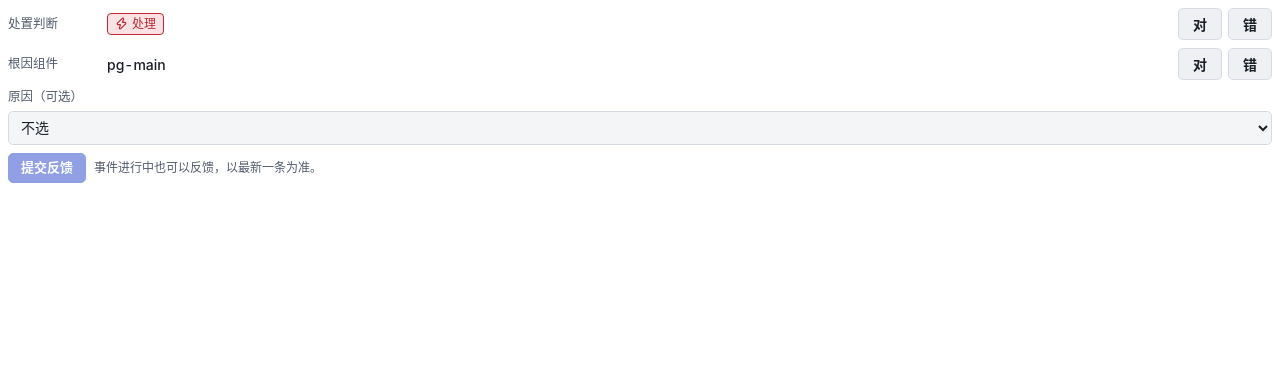
it: 反馈 › 两个维度，根因错时可以选择不知道真实根因，原因必选
The image size is (1280, 365).
Check: the button "提交反馈" is disabled, box [8,153,86,183]
Click the button "错" in the row of "pg-main" at (1250,64), box [1228,48,1272,80]
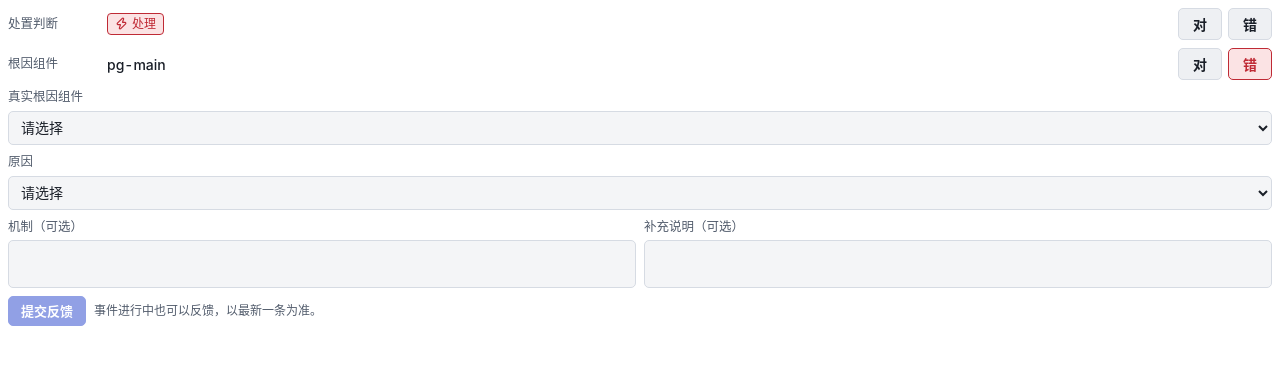
Check: the button "提交反馈" is disabled, box [8,296,86,326]
Select "不知道真实根因" in the dropdown labelled "真实根因组件" at (640,128), box [8,111,1272,145]
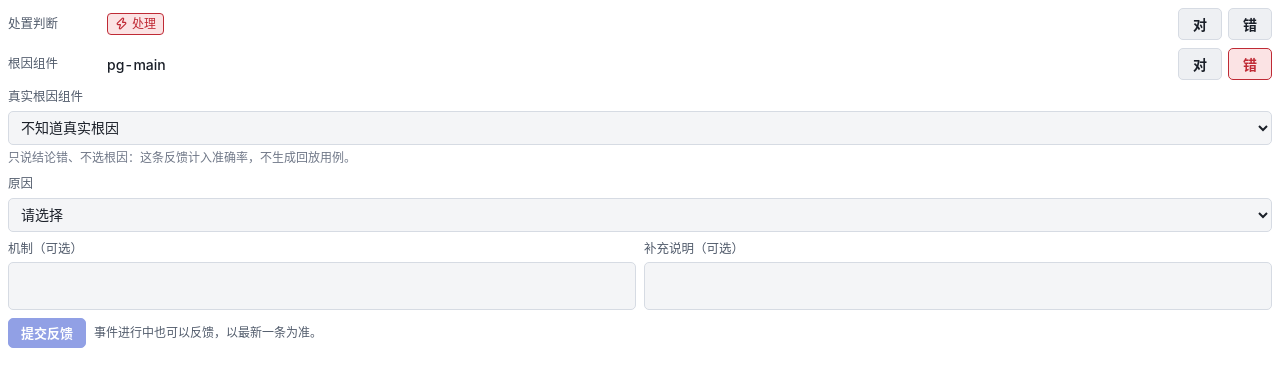
Check: the button "提交反馈" is disabled, box [8,318,86,348]
Check: the text "只说结论错、不选根因：这条反馈计入准确率，不生成回放用例。" is shown, box [8,150,356,165]
Select "真误报" in the dropdown labelled "原因" at (640,214), box [8,198,1272,232]
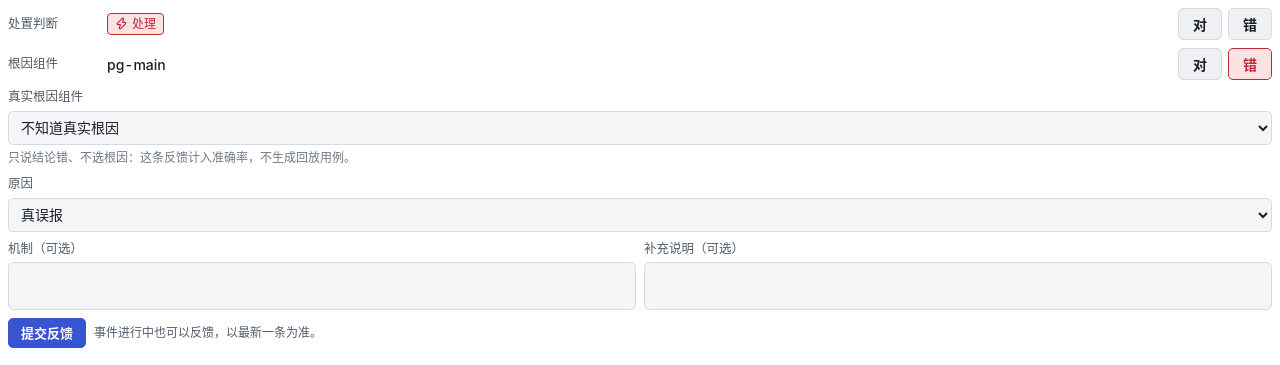
Check: the text "事件进行中也可以反馈，以最新一条为准。" is shown, box [94,324,322,342]
Check: the button "提交反馈" is enabled, box [8,318,86,348]
